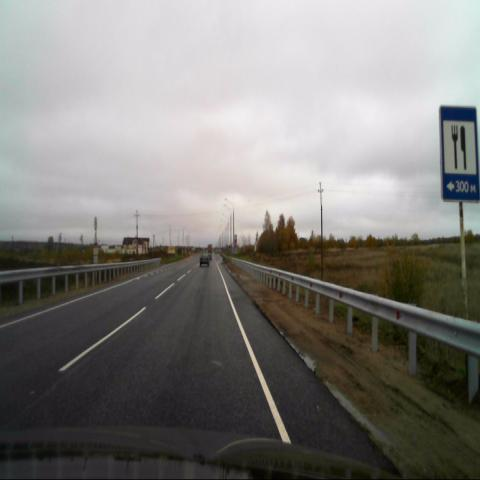7_7: (439, 103, 479, 202)
